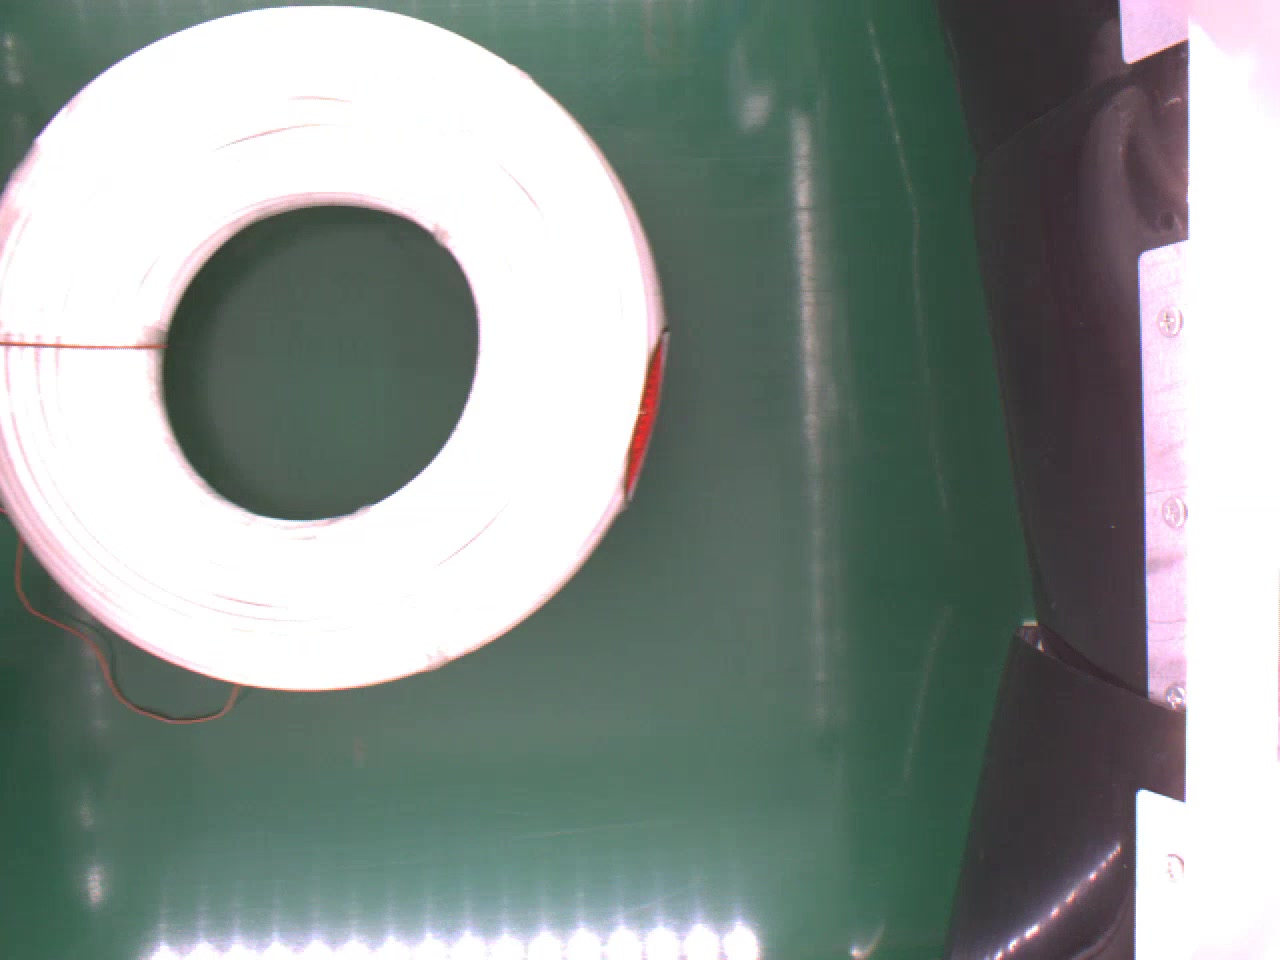white: (0, 8, 671, 686)
